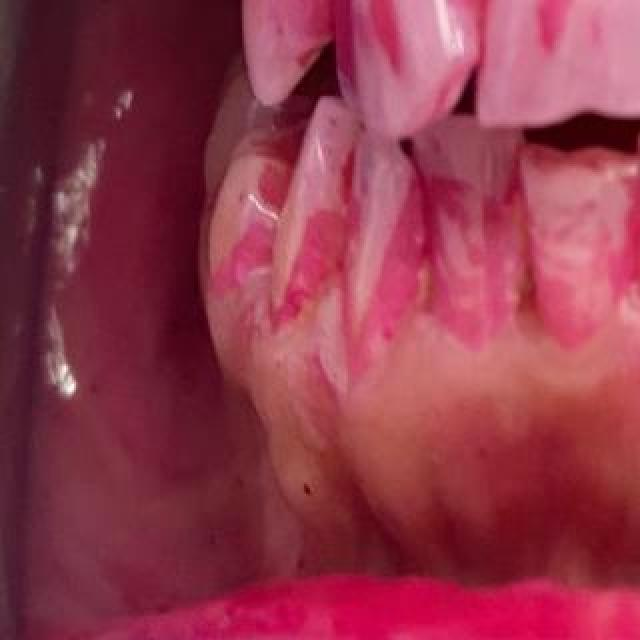maligned: (285, 85, 359, 311)
plaque: (484, 0, 640, 300), (325, 0, 433, 372), (423, 0, 531, 340), (484, 0, 640, 207), (426, 0, 562, 202), (403, 0, 532, 201), (196, 0, 281, 289), (230, 0, 317, 220), (476, 0, 593, 149), (525, 201, 605, 345), (163, 0, 218, 189), (551, 0, 640, 103), (210, 0, 265, 164), (534, 202, 601, 308), (267, 220, 333, 325), (219, 0, 270, 134), (369, 0, 432, 103), (317, 155, 360, 276), (428, 0, 481, 79), (371, 0, 400, 71), (270, 105, 306, 162), (534, 0, 568, 53), (538, 146, 598, 174), (297, 0, 340, 36), (294, 0, 318, 64), (331, 0, 358, 55), (332, 27, 357, 77), (608, 0, 640, 34), (265, 162, 290, 205), (480, 0, 494, 55), (261, 164, 278, 205), (560, 213, 588, 231), (319, 0, 332, 27), (342, 0, 359, 20), (449, 0, 481, 10), (577, 0, 595, 17), (562, 202, 586, 213), (632, 0, 640, 8), (638, 155, 640, 169)
